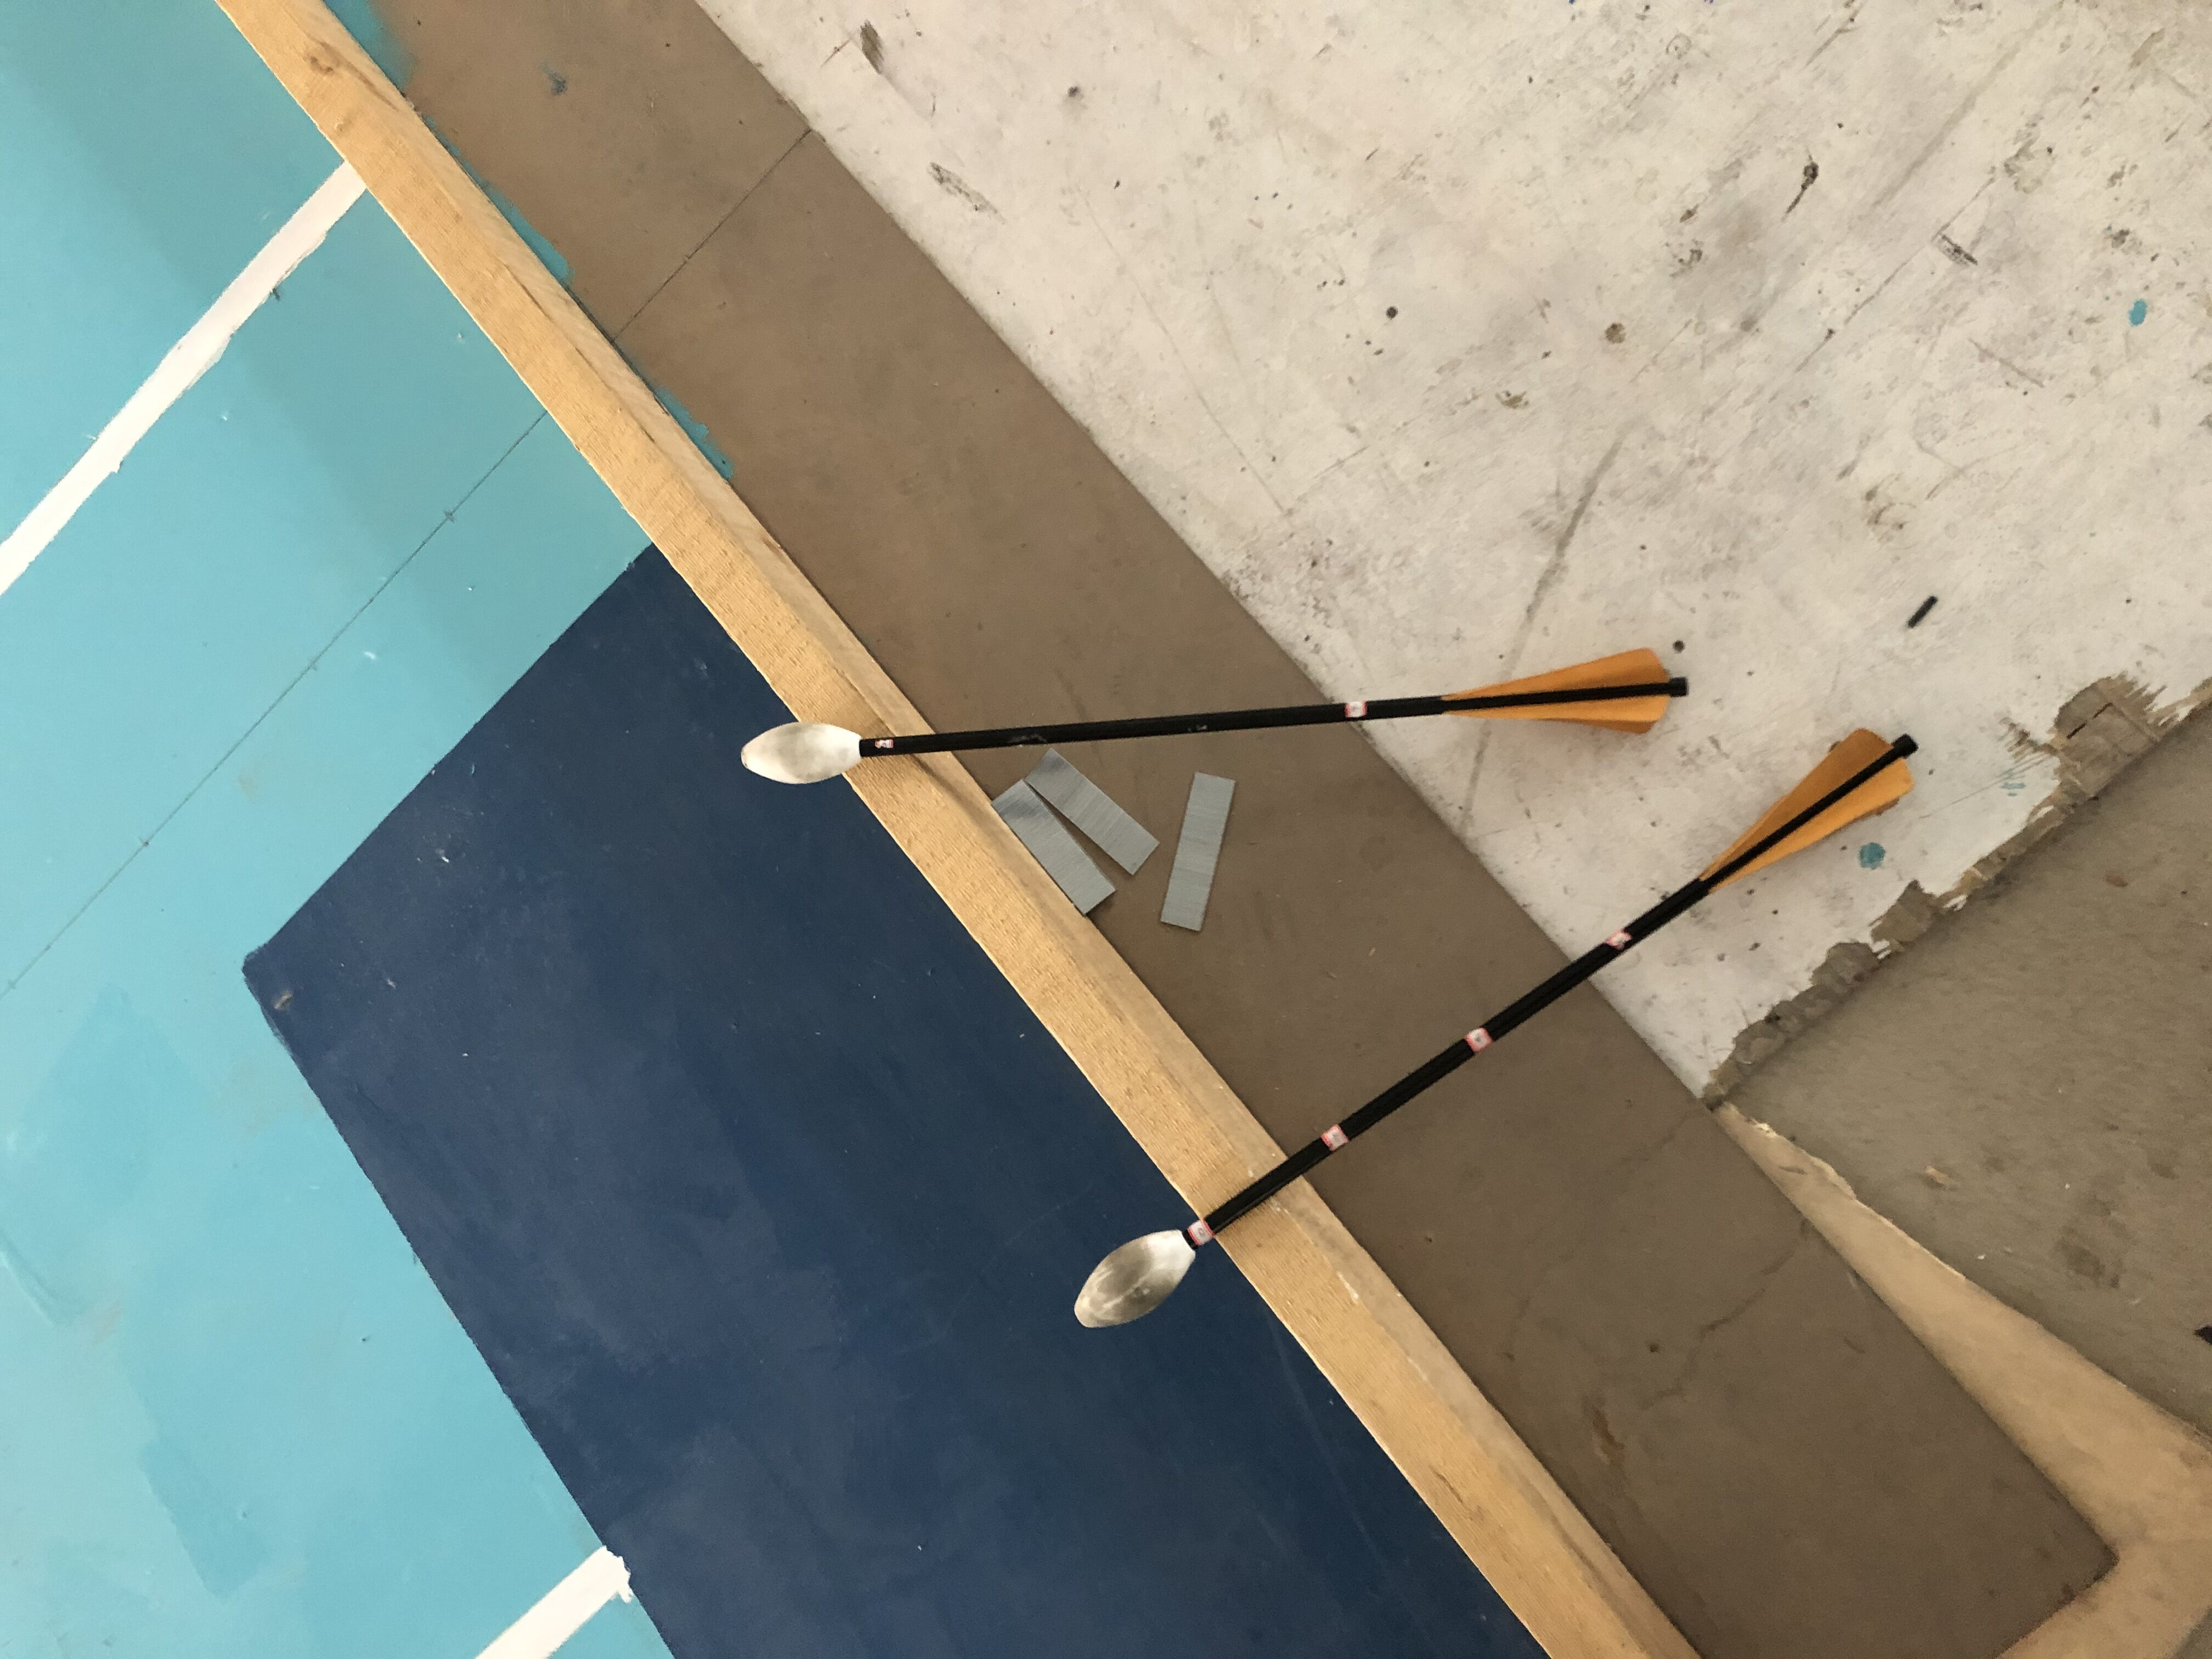arrow: (1071, 730, 1923, 1326), (740, 647, 1691, 786)
arrowFront: (1071, 1230, 1197, 1328), (737, 720, 869, 788)
